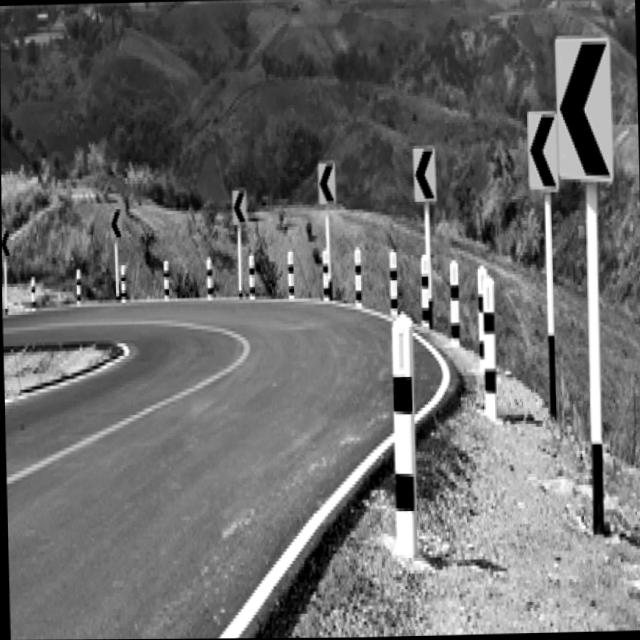cleat: (1, 143, 488, 640), (1, 172, 456, 608)
